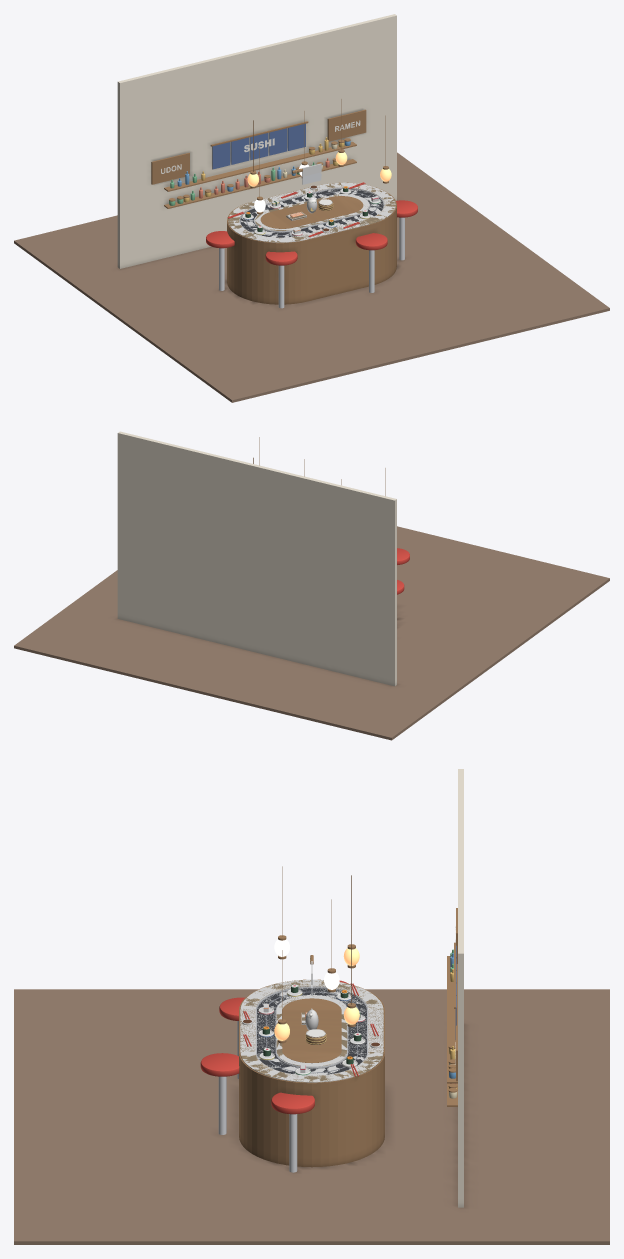
File: sushi.glb
3 views of the same model, one above another, from view 1: azimuth 30°, elevation 25°; view 2: azimuth 150°, elevation 25°; view 3: azimuth 270°, elevation 25° (orthographic). The views are drawn at different scales.
Parts seen in each view (by area): view 1: floor, back_wall, counter_front, col_mesh_counter, island_mat, counter, belt, shelf.001, menu_board.001, menu_board, col_mesh_belt, shelf (+1 smaller); view 2: back_wall, floor; view 3: floor, counter_front, col_mesh_counter, island_mat, back_wall, belt, counter, col_mesh_belt, col_hull_island, shelf.001, stool_seat.001, stool_seat.
Boxes of the visible parts, left/top/right/bottom form: floor: left=14, top=152, right=609, bottom=402; back_wall: left=117, top=14, right=396, bottom=268; counter_front: left=227, top=182, right=396, bottom=304; col_mesh_counter: left=228, top=182, right=395, bottom=242; island_mat: left=260, top=196, right=363, bottom=228; counter: left=228, top=183, right=395, bottom=242; belt: left=240, top=189, right=383, bottom=237; shelf.001: left=164, top=142, right=356, bottom=191; menu_board.001: left=327, top=109, right=366, bottom=141; menu_board: left=151, top=152, right=189, bottom=184; col_mesh_belt: left=240, top=189, right=383, bottom=237; shelf: left=164, top=159, right=356, bottom=208; back_wall: left=117, top=431, right=396, bottom=686; floor: left=14, top=526, right=609, bottom=740; floor: left=14, top=989, right=609, bottom=1244; counter_front: left=239, top=979, right=384, bottom=1167; col_mesh_counter: left=240, top=979, right=383, bottom=1082; island_mat: left=282, top=998, right=341, bottom=1063; back_wall: left=458, top=769, right=463, bottom=1207; belt: left=257, top=988, right=366, bottom=1074; counter: left=240, top=980, right=383, bottom=1082; col_mesh_belt: left=257, top=988, right=366, bottom=1075; col_hull_island: left=276, top=995, right=347, bottom=1067; shelf.001: left=447, top=956, right=457, bottom=1083; stool_seat.001: left=200, top=1053, right=239, bottom=1076; stool_seat: left=271, top=1092, right=314, bottom=1114.
Size of the model in its own units: 60 by 30 by 60.
